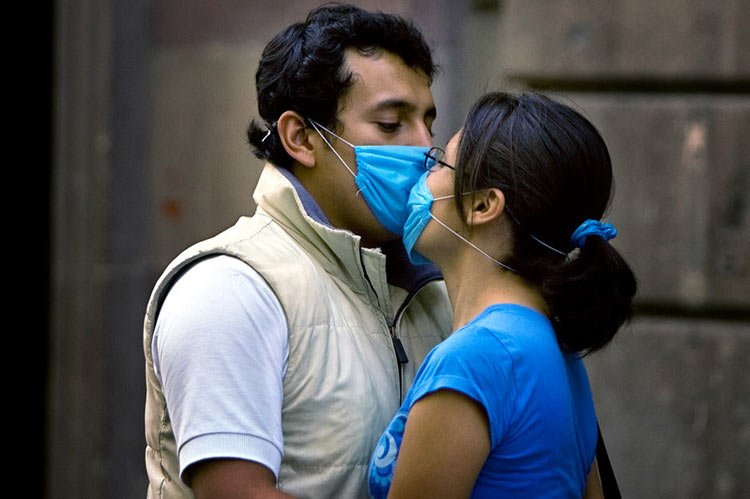face_mask: (345, 82, 440, 235), (405, 123, 472, 264)
